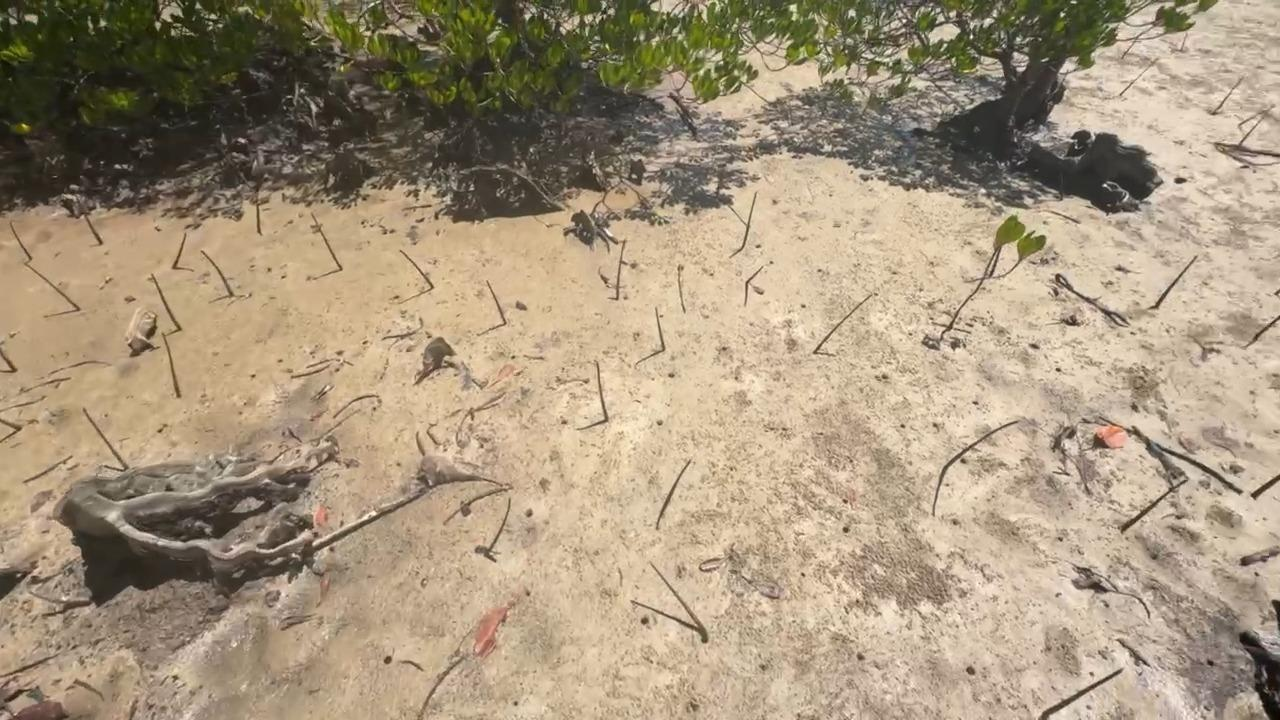Tree: (648, 560, 710, 642), (1042, 666, 1124, 720), (941, 420, 1021, 471), (811, 293, 874, 355), (1123, 476, 1189, 532), (81, 404, 128, 471), (22, 262, 81, 311), (1153, 255, 1198, 309), (310, 210, 344, 272), (150, 273, 182, 330), (199, 248, 235, 297), (398, 248, 434, 290), (662, 458, 691, 509), (161, 330, 182, 399), (487, 497, 512, 553), (1119, 58, 1154, 97), (75, 199, 104, 246), (1212, 76, 1241, 116), (740, 192, 758, 251), (9, 220, 35, 260), (486, 278, 507, 323), (595, 360, 610, 423), (615, 238, 628, 301), (1253, 313, 1280, 342), (1238, 104, 1271, 127), (654, 304, 667, 351), (172, 232, 187, 269), (0, 345, 19, 374), (745, 264, 766, 286), (0, 416, 22, 433), (254, 193, 262, 234)
